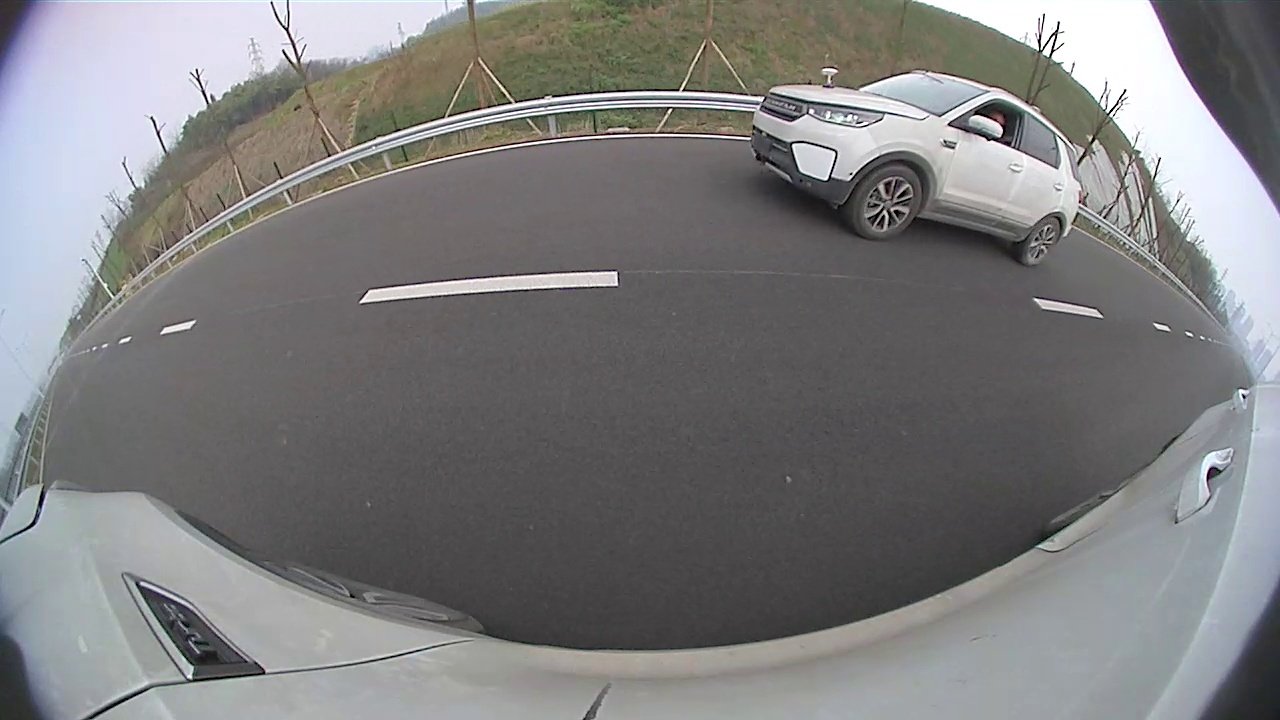car: (751, 71, 1082, 266)
front: (854, 165, 923, 242)
rear: (1022, 215, 1062, 265)
